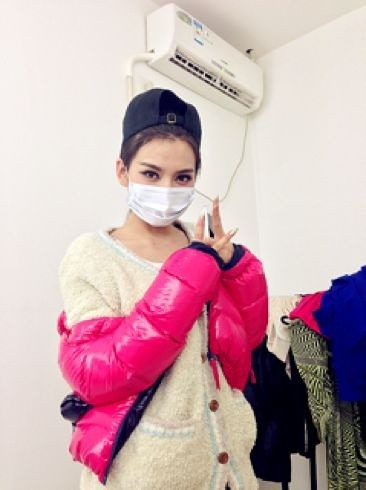face_mask: (124, 130, 196, 226)
